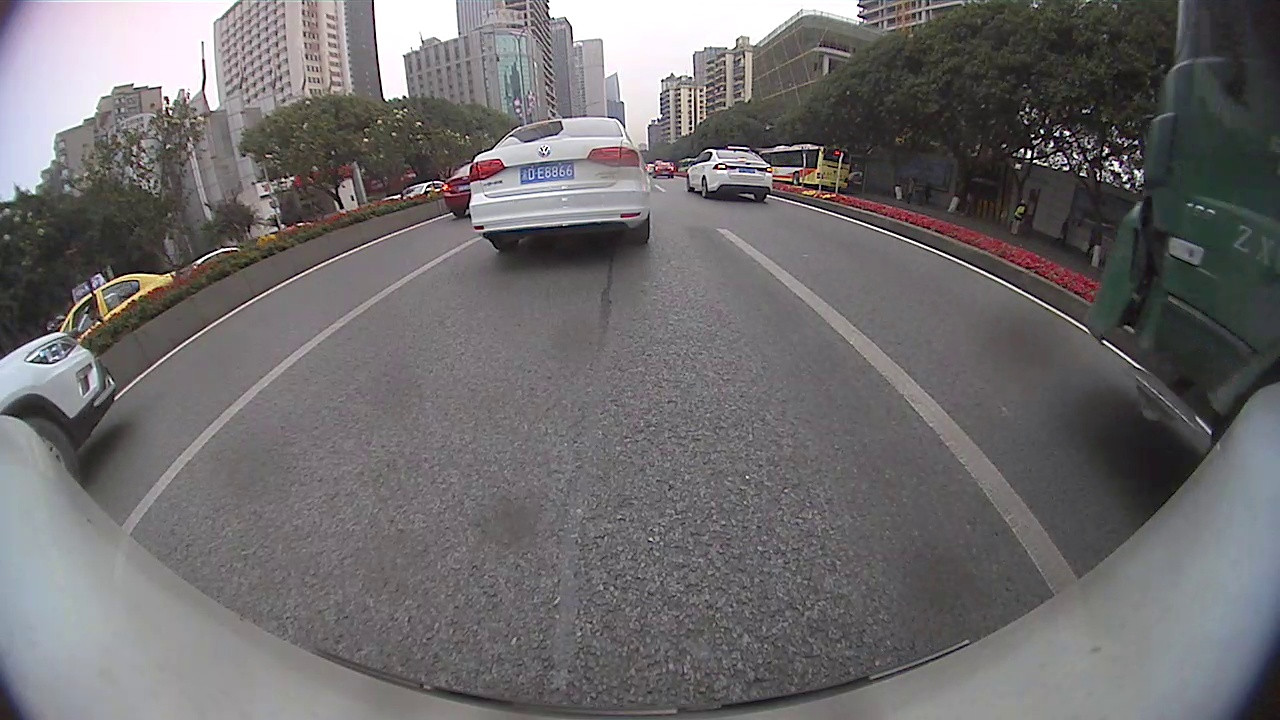bus: (757, 142, 851, 187)
car: (468, 117, 649, 254), (0, 333, 118, 481), (60, 272, 177, 344), (684, 145, 772, 201), (443, 159, 475, 218), (399, 179, 443, 199), (650, 158, 676, 179)
front: (23, 417, 81, 478)
rear: (701, 175, 709, 200)
truck: (1079, 0, 1278, 440)
